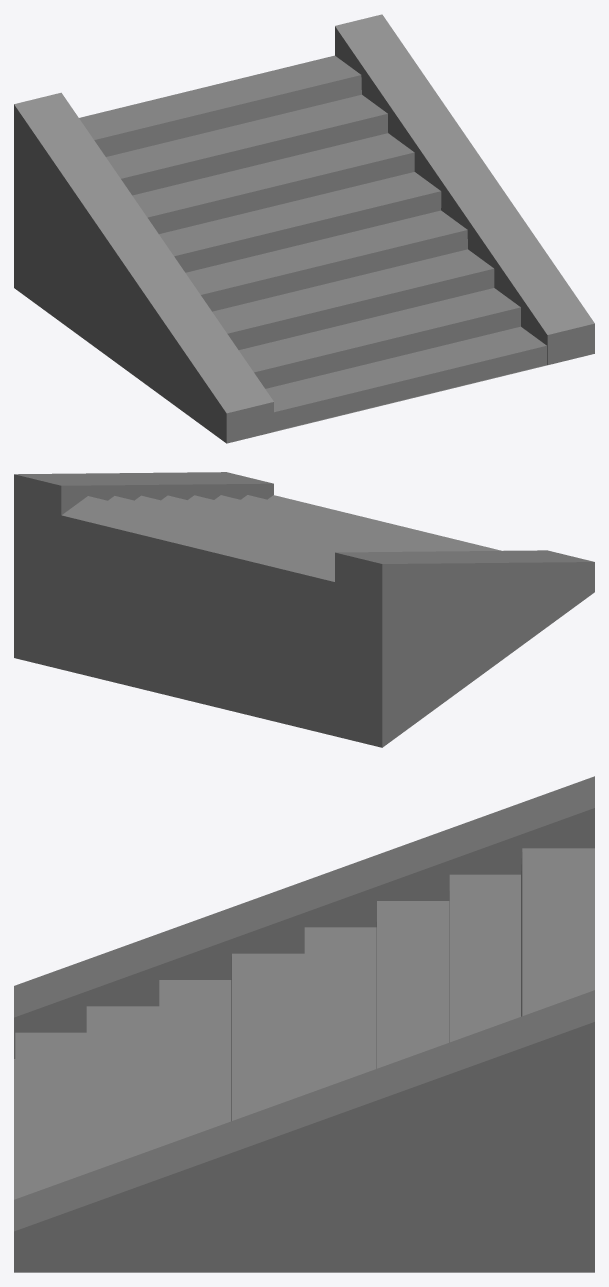
File: Stairs 03.FBX
The picture shows the model from 3 angles, top to bottom: view 1: azimuth 30°, elevation 25°; view 2: azimuth 150°, elevation 25°; view 3: azimuth 270°, elevation 25°; orthographic projection. The views are drawn at different scales.
Visible parts, largest first — view 1: Stairs 03; view 2: Stairs 03; view 3: Stairs 03.
Boxes of the visible parts, bbox=[...] form: Stairs 03: bbox=[14, 14, 594, 443]; Stairs 03: bbox=[14, 472, 594, 747]; Stairs 03: bbox=[14, 776, 594, 1272].
Bounding box in the file's own units: 400 × 191 × 400.
